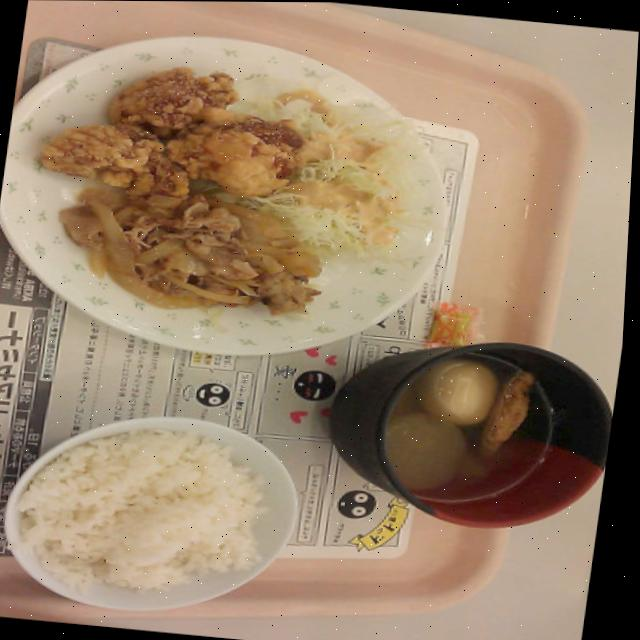汤锅炖物: (347, 327, 626, 555)
猪肉菜式: (47, 183, 342, 329)
米饭主食: (0, 402, 312, 633)
蔬菜料理: (257, 79, 456, 279)
鸡肉料理 含炸鸡: (24, 52, 317, 207)
